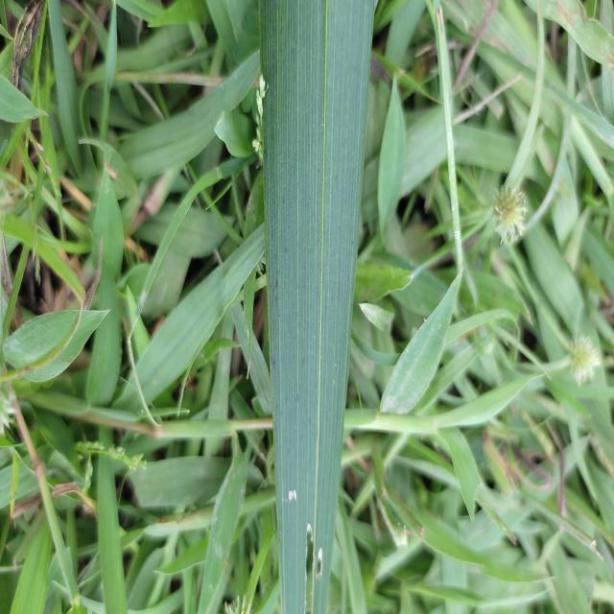Boron: (265, 1, 377, 614)
